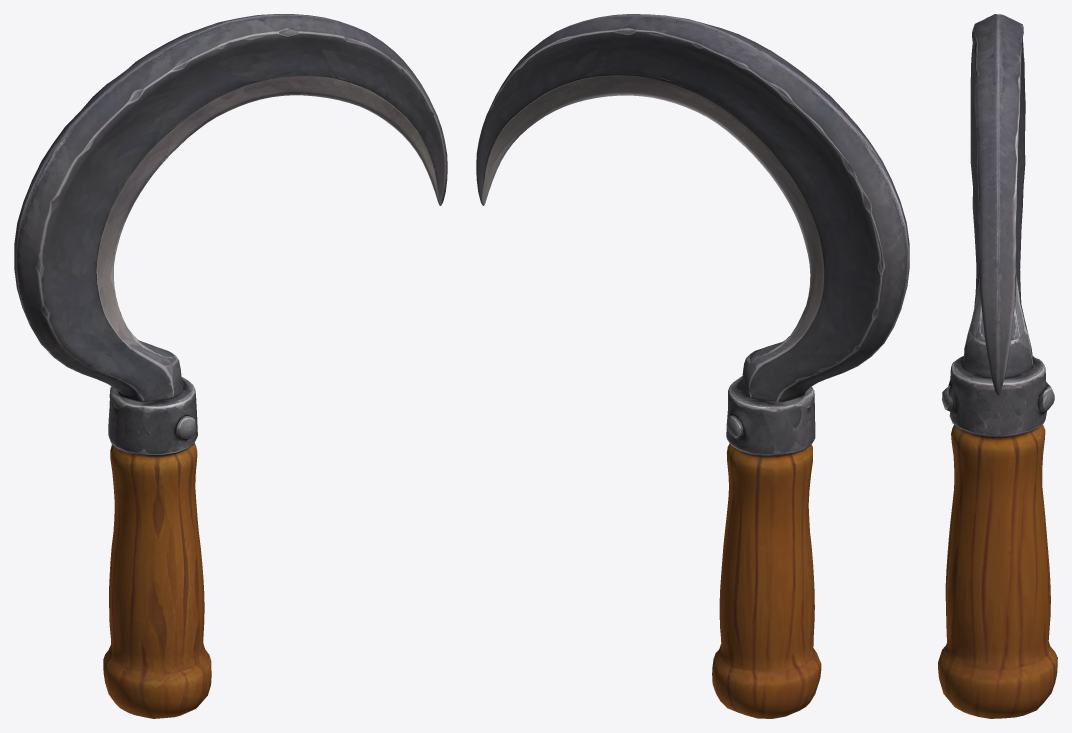
The model's file is sickle.glb.
The picture shows the model from 3 angles, left to right: view 1: azimuth 30°, elevation 25°; view 2: azimuth 150°, elevation 25°; view 3: azimuth 270°, elevation 25°; orthographic projection. The views are drawn at different scales.
Parts seen in each view (by area): view 1: tripo_node_ec6a3e60; view 2: tripo_node_ec6a3e60; view 3: tripo_node_ec6a3e60.
Boxes of the visible parts, <box> form: tripo_node_ec6a3e60: <box>14,14,447,718</box>; tripo_node_ec6a3e60: <box>476,14,909,718</box>; tripo_node_ec6a3e60: <box>938,14,1057,718</box>.
Size of the model in its own units: 65.94 by 97.92 by 15.
Materials: 1 (1 with a texture image).
